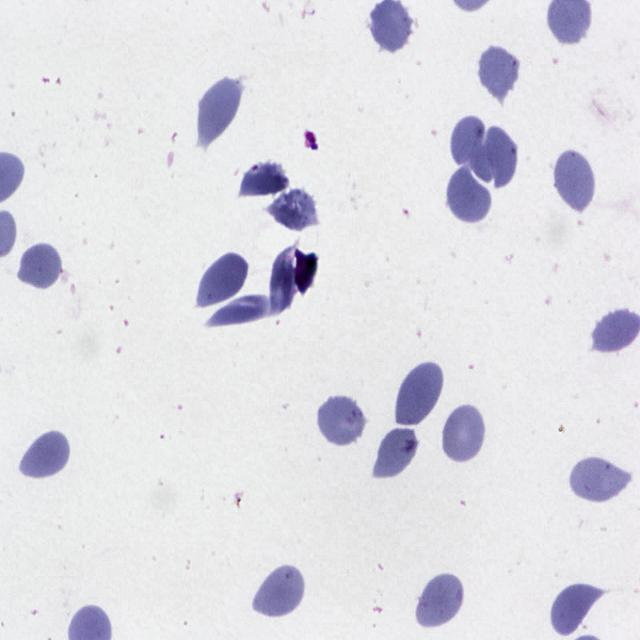red blood cell: (564, 451, 634, 506), (395, 358, 445, 429), (195, 72, 243, 144), (252, 561, 306, 621), (196, 250, 250, 309), (446, 161, 494, 227), (552, 146, 597, 216), (16, 427, 72, 483), (472, 124, 519, 190), (414, 571, 466, 630), (441, 401, 487, 467), (476, 39, 522, 102), (316, 392, 367, 448), (549, 581, 600, 637), (373, 422, 421, 481), (265, 185, 318, 234), (17, 240, 65, 293), (268, 241, 298, 317), (206, 293, 272, 326), (449, 111, 487, 167), (237, 162, 291, 197)
